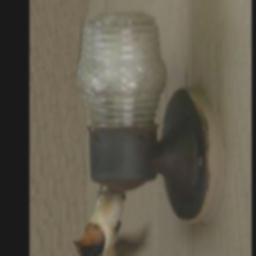Swallow: (73, 185, 151, 256)
